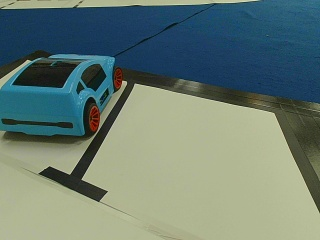car: (1, 56, 125, 137)
